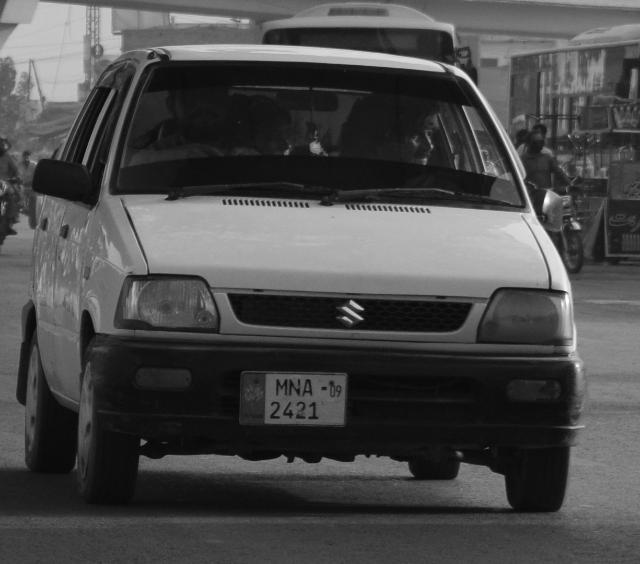Number: (268, 378, 318, 422)
